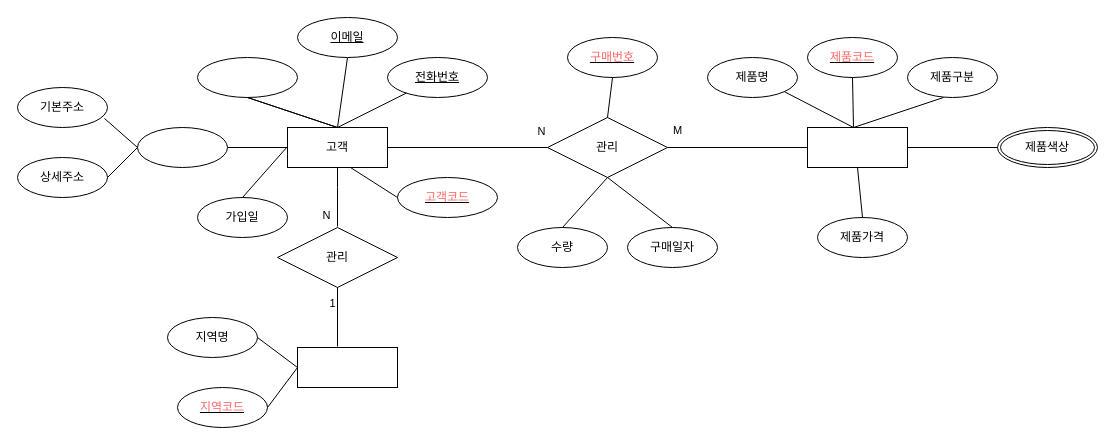
Image size: 1115x445. Some labels were removed from this diagram. The centre of each missing label's shape, as x and y in pixels:
"고객명" belongs at (x=247, y=77).
"제품" belongs at (x=857, y=147).
"주소" belongs at (x=182, y=147).
"지역" belongs at (x=347, y=367).
